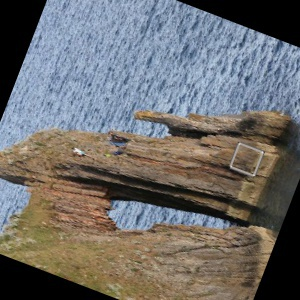square: (228, 141, 264, 177)
